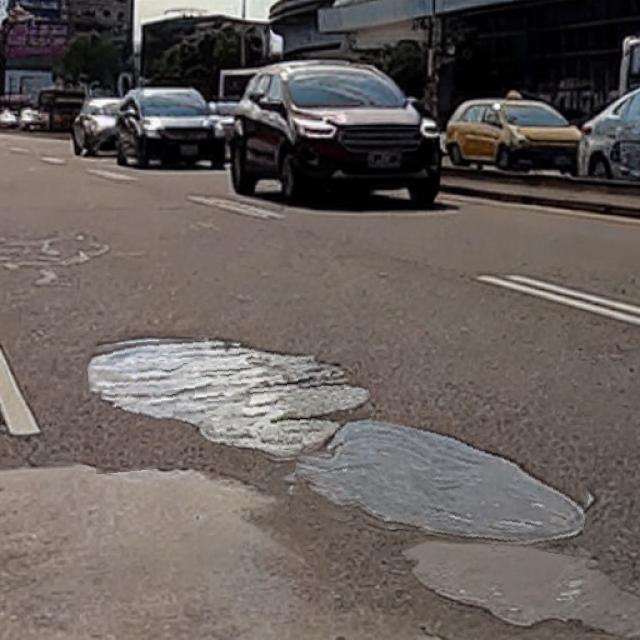puddle: (89, 330, 374, 470), (293, 421, 593, 547)
